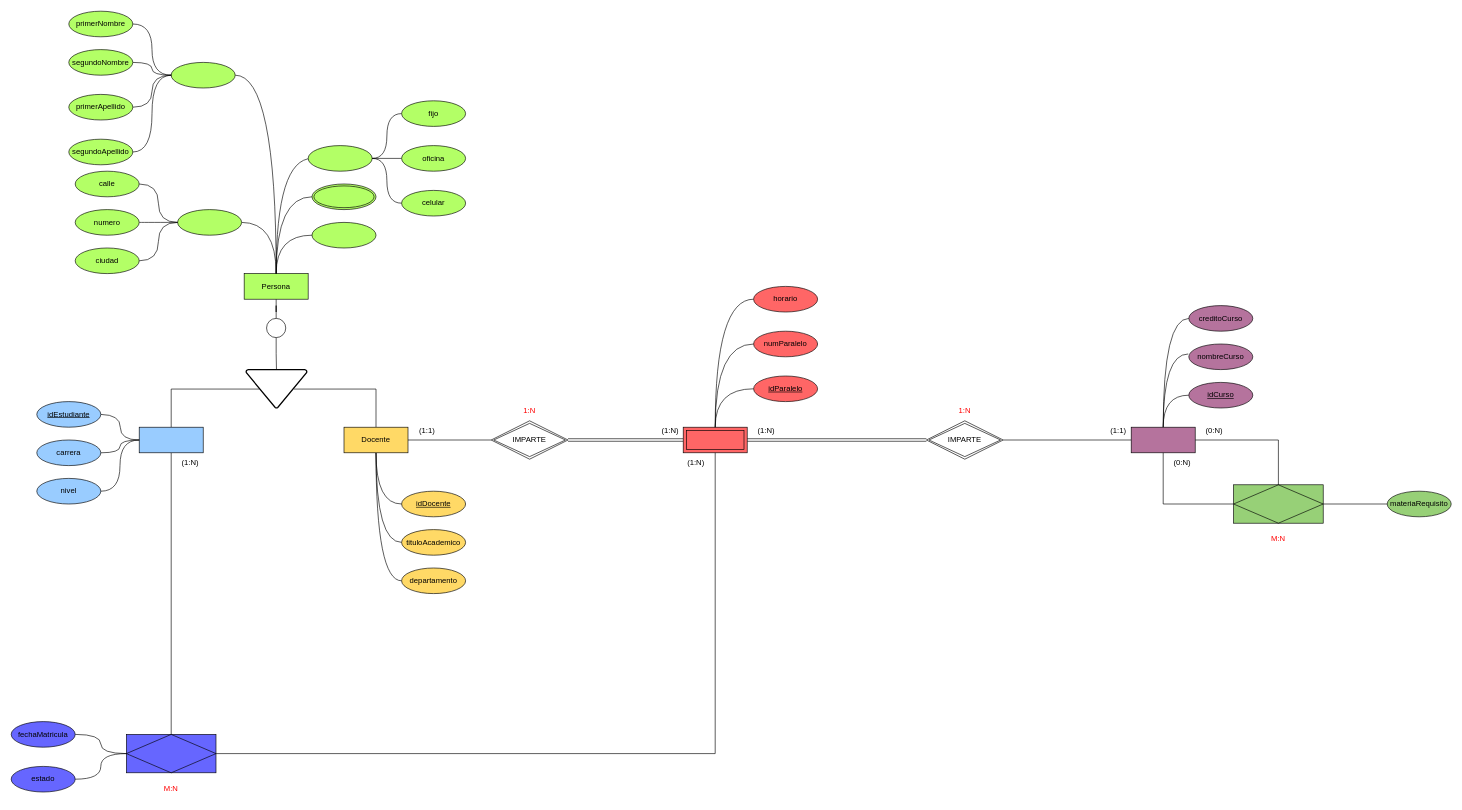
The diagram is 1462 pixels wide and 810 high, and some of its shapes have lost their labels. The centre of each missing label's shape, as x and y in pixels:
correo: point 343,196
Curso: point 1163,440
direccion: point 209,222
Estudiante: point 171,440
idPersona: point 343,235
ISA: point 276,388
MATRICULA: point 171,753
nombrePersona: point 203,75
Paralelo: point 715,440
PRERREQUISITO: point 1278,503
telefono: point 340,158
